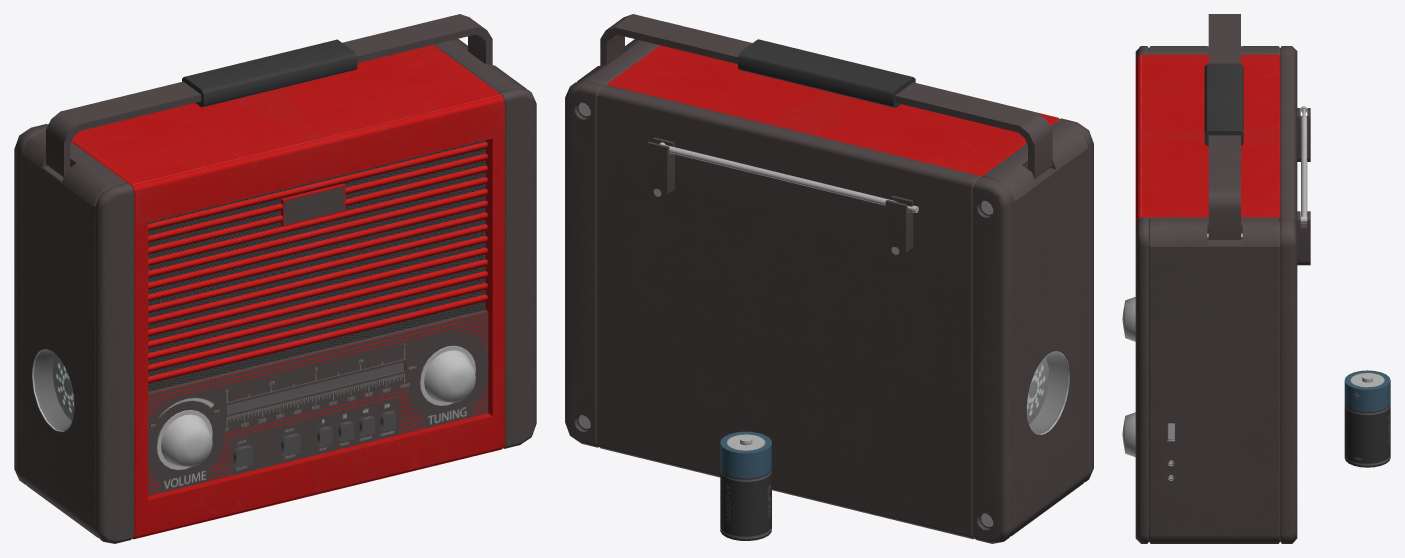
Rendered from radio_game_ready_free.glb.
3 views of the same model, side by side, from view 1: azimuth 30°, elevation 25°; view 2: azimuth 150°, elevation 25°; view 3: azimuth 270°, elevation 25° (orthographic). The views are drawn at different scales.
Parts seen in each view (by area): view 1: AssetMesh_008, AssetMesh_009, AssetMesh_010, AssetMesh_011; view 2: AssetMesh_008, AssetMesh_001, AssetMesh_009; view 3: AssetMesh_008, AssetMesh_001, AssetMesh_010, AssetMesh_011.
Boxes of the visible parts, x1,y1,x2,y2 form: AssetMesh_008: [14, 14, 536, 543]; AssetMesh_009: [33, 350, 404, 431]; AssetMesh_010: [419, 345, 475, 405]; AssetMesh_011: [156, 410, 212, 469]; AssetMesh_008: [565, 14, 1093, 543]; AssetMesh_001: [720, 431, 771, 540]; AssetMesh_009: [1027, 352, 1067, 434]; AssetMesh_008: [1135, 14, 1310, 543]; AssetMesh_001: [1344, 370, 1390, 467]; AssetMesh_010: [1122, 412, 1135, 457]; AssetMesh_011: [1122, 297, 1135, 341].
Size of the model in its own units: 0.3203 by 0.2775 by 0.1871.
Materials: 2 (1 with a texture image).
